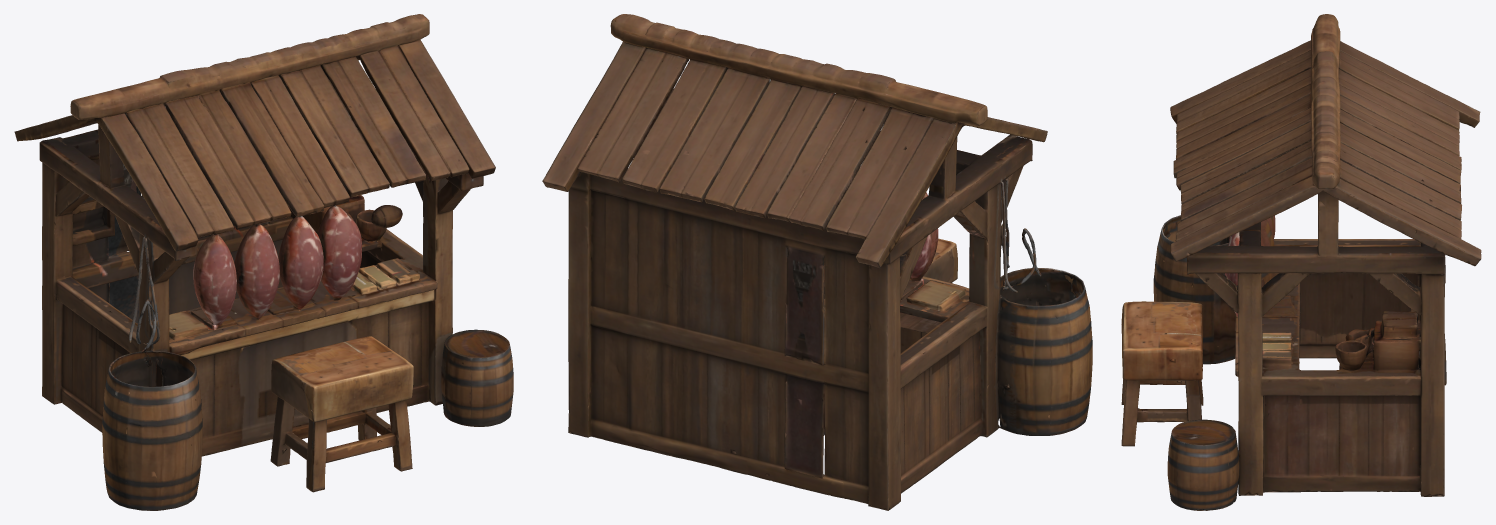
Rendered from Medieval_Market_Stall_0717211652_texture.fbx.
3 renders of one model, left to right at view 1: azimuth 30°, elevation 25°; view 2: azimuth 150°, elevation 25°; view 3: azimuth 270°, elevation 25°, orthographic. The views are drawn at different scales.
Parts seen in each view (by area): view 1: Mesh_0; view 2: Mesh_0; view 3: Mesh_0.
Part boxes in pixels (x1,y1,x2,y2): Mesh_0: [14, 14, 513, 510]; Mesh_0: [542, 14, 1092, 510]; Mesh_0: [1121, 14, 1481, 510].
Size of the model in its own units: 191 by 160 by 157.
Materials: 1 (1 with a texture image).
